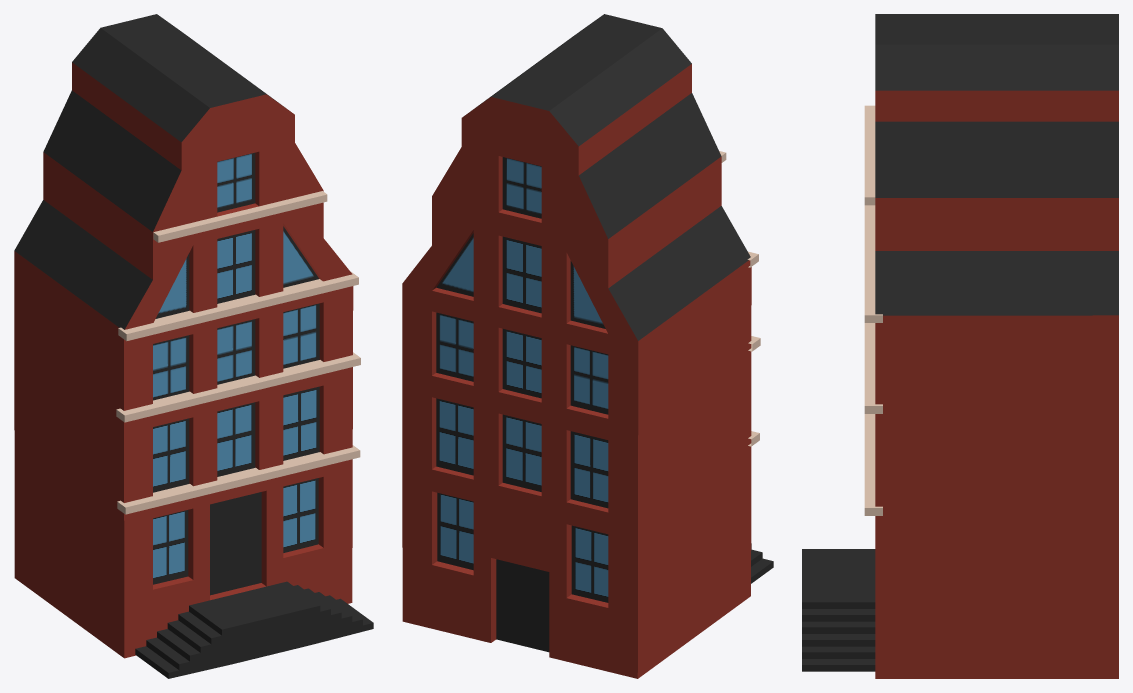
Rendered from HighRed.obj.
The picture shows the model from 3 angles, left to right: view 1: azimuth 30°, elevation 25°; view 2: azimuth 150°, elevation 25°; view 3: azimuth 270°, elevation 25°; orthographic projection. The views are drawn at different scales.
Visible parts, largest first — view 1: WysokiCzerwony; view 2: WysokiCzerwony; view 3: WysokiCzerwony.
Part boxes in pixels (<box>): WysokiCzerwony: <box>14,14,373,678</box>; WysokiCzerwony: <box>402,14,773,678</box>; WysokiCzerwony: <box>802,14,1118,678</box>.
Bounding box in the file's own units: 6.21 × 13.31 × 6.5.
